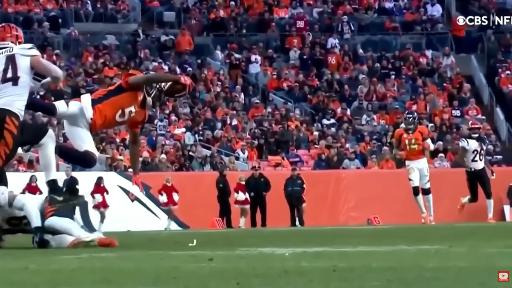Helmet: (0, 24, 23, 47), (144, 84, 168, 103), (403, 111, 418, 131), (468, 121, 482, 138)
Jersey: (91, 71, 147, 132), (0, 44, 40, 118), (394, 126, 429, 161), (0, 208, 31, 234), (460, 138, 485, 169)
Player: (27, 70, 193, 190), (0, 24, 62, 247), (0, 24, 62, 190), (43, 178, 117, 247), (394, 111, 434, 223), (457, 121, 494, 222), (10, 192, 44, 220), (0, 208, 31, 234), (154, 114, 169, 137)
